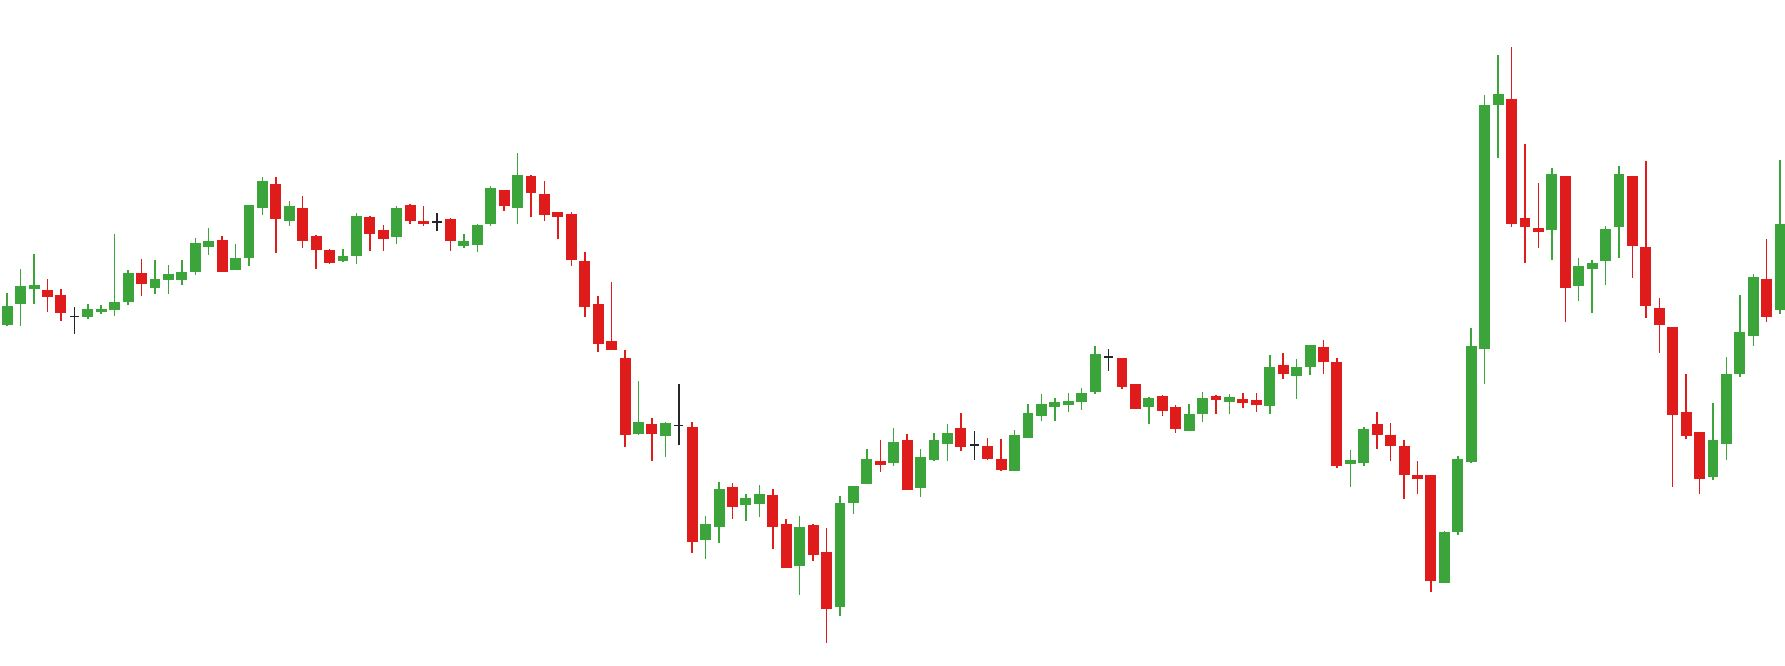sell: (1545, 161, 1642, 293)
